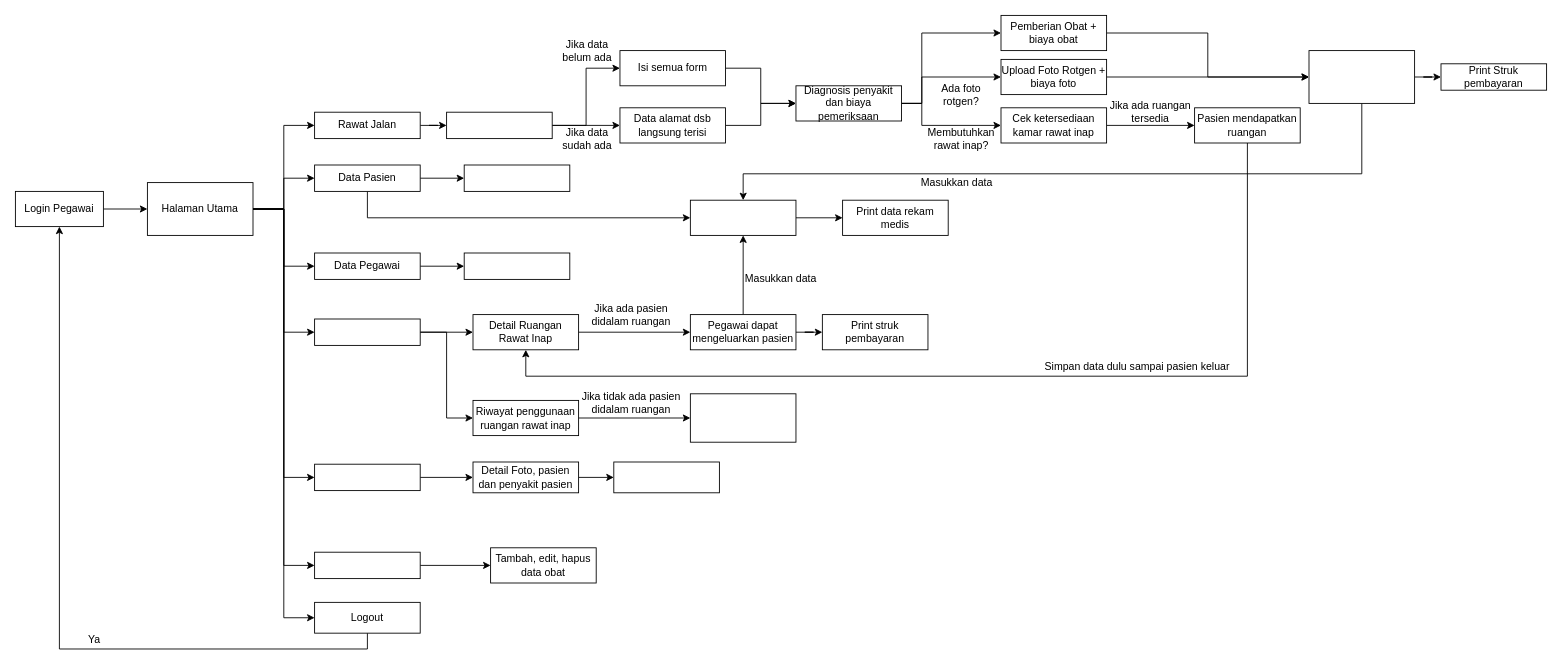
Some shapes in this 1562 by 671 pixel diagram are drawn without their labels. Here are the shapes that lost their labels. From the top down, the centre of each, then its label:
point (1361, 76): Total biaya pemeriksaan + obat + rotgen
point (499, 125): Nama Pasien
point (516, 177): Edit Data Pasien
point (742, 217): Data semua rekam medis pasien
point (516, 265): Tambah, Edit, Hapus Data Pegawai
point (367, 331): Menu Rawat Inap
point (742, 417): Pegawai dapat mengubah status ruangan
point (367, 477): Data Foto Rotgen
point (666, 477): Foto dapat diprint
point (367, 565): Data Obat
